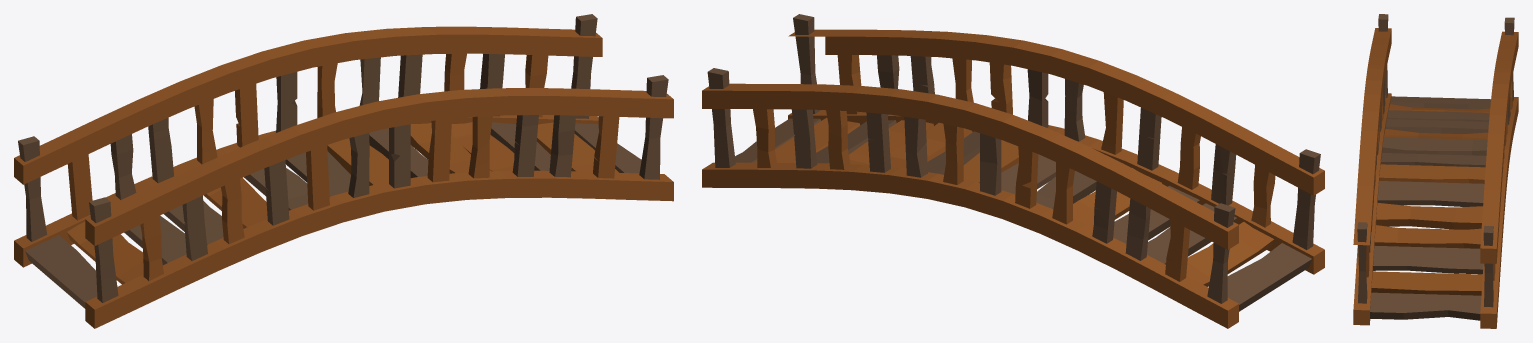
The model's file is bridge001.gltf.
3 renders of one model, left to right at view 1: azimuth 30°, elevation 25°; view 2: azimuth 150°, elevation 25°; view 3: azimuth 270°, elevation 25°, orthographic. The views are drawn at different scales.
Visible parts, largest first — view 1: node_Bridge02_-473132; view 2: node_Bridge02_-473132; view 3: node_Bridge02_-473132.
Boxes of the visible parts, x1,y1,x2,y2 form: node_Bridge02_-473132: [14, 14, 673, 328]; node_Bridge02_-473132: [702, 14, 1324, 328]; node_Bridge02_-473132: [1353, 14, 1518, 328].
Size of what is drawn, in the model's own units: 5.66 by 1.46 by 1.79.
Materials: 1 (1 with a texture image).
